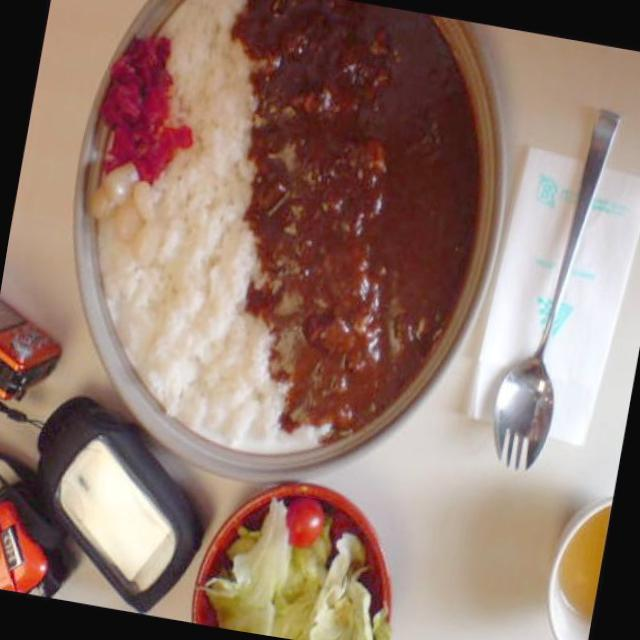Beef Curry: (226, 3, 526, 455)
